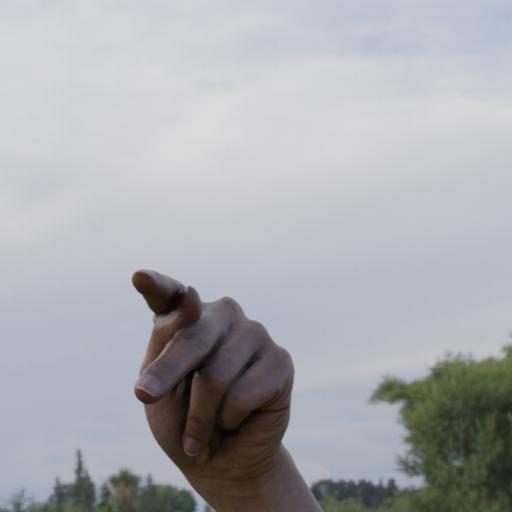P: (108, 226, 314, 485)
